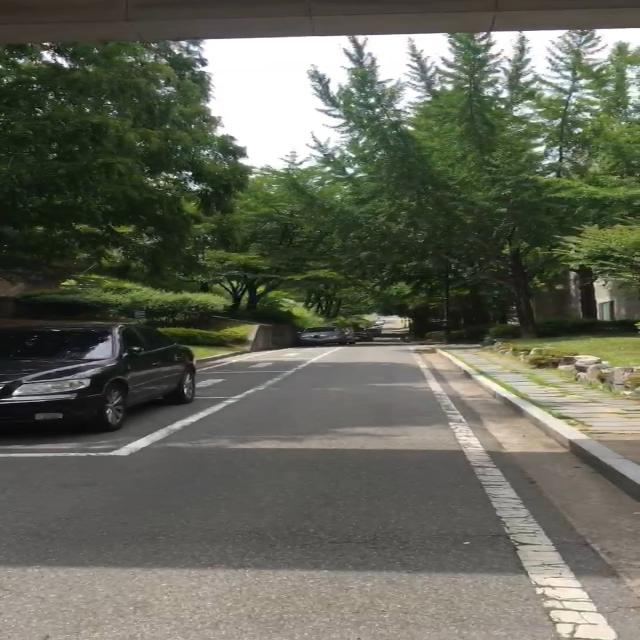obstacle: (0, 318, 196, 432), (295, 326, 384, 346)
road: (0, 348, 640, 640)
sidewalk: (436, 342, 640, 487)
